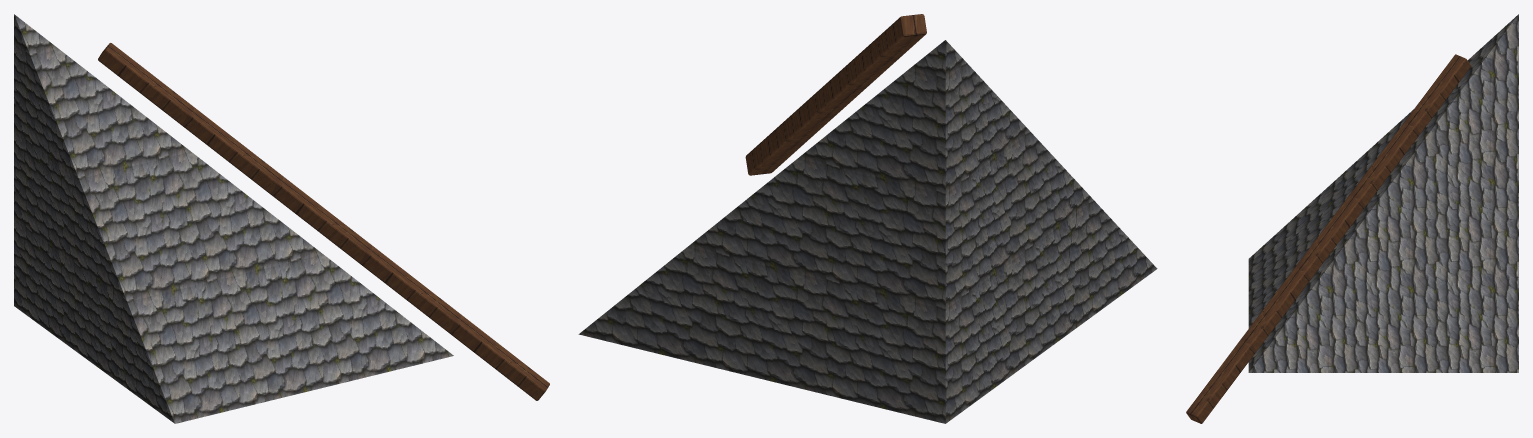
Rendered from roof_45_outer__cut_stone.glb.
The picture shows the model from 3 angles, left to right: view 1: azimuth 30°, elevation 25°; view 2: azimuth 150°, elevation 25°; view 3: azimuth 270°, elevation 25°; orthographic projection. The views are drawn at different scales.
Parts seen in each view (by area): view 1: model; view 2: model; view 3: model.
Part boxes in pixels (x1,y1,x2,y2): model: [14, 14, 549, 423]; model: [578, 14, 1157, 423]; model: [1186, 14, 1518, 423].
Bounding box in the file's own units: 2.46 × 2.22 × 2.46.
Materials: 2 (2 with a texture image).
